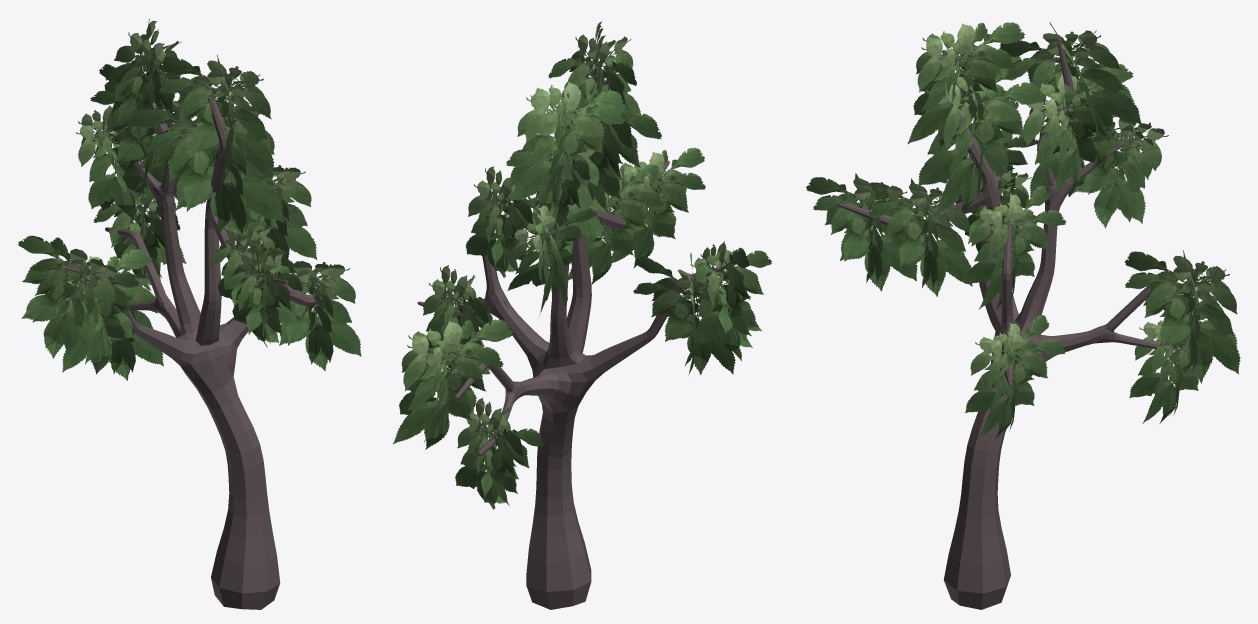
Rendered from koivu.fbx.
The picture shows the model from 3 angles, left to right: view 1: azimuth 30°, elevation 25°; view 2: azimuth 150°, elevation 25°; view 3: azimuth 270°, elevation 25°; orthographic projection. The views are drawn at different scales.
Parts seen in each view (by area): view 1: Plane, lehti.007, lehti.006, lehti.009, lehti.001, lehti.011, lehti.008, lehti.010, lehti.004, lehti.002, lehti.005, lehti.003 (+2 smaller); view 2: Plane, lehti.003, lehti.004, lehti.009, lehti, lehti.010, lehti.008, lehti.002, lehti.011, lehti.006, lehti.012, lehti.007 (+2 smaller); view 3: Plane, lehti.003, lehti.007, lehti.006, lehti.005, lehti.012, lehti.004, lehti.001, lehti.011, lehti.008, lehti.002, lehti (+2 smaller).
Part boxes in pixels (x1=…): Plane: x1=60, y1=47, x2=336, y2=609; lehti.007: x1=125, y1=95, x2=283, y2=241; lehti.006: x1=158, y1=54, x2=274, y2=187; lehti.009: x1=17, y1=235, x2=121, y2=358; lehti.001: x1=279, y1=259, x2=361, y2=371; lehti.011: x1=224, y1=237, x2=302, y2=347; lehti.008: x1=75, y1=105, x2=148, y2=219; lehti.010: x1=56, y1=249, x2=152, y2=374; lehti.004: x1=104, y1=19, x2=183, y2=140; lehti.002: x1=236, y1=165, x2=317, y2=268; lehti.005: x1=90, y1=64, x2=192, y2=206; lehti.003: x1=93, y1=191, x2=186, y2=290; Plane: x1=417, y1=70, x2=736, y2=609; lehti.003: x1=393, y1=319, x2=513, y2=449; lehti.004: x1=508, y1=82, x2=626, y2=217; lehti.009: x1=690, y1=241, x2=771, y2=360; lehti: x1=455, y1=398, x2=544, y2=509; lehti.010: x1=633, y1=252, x2=735, y2=375; lehti.008: x1=507, y1=178, x2=597, y2=314; lehti.002: x1=465, y1=166, x2=538, y2=277; lehti.011: x1=611, y1=147, x2=705, y2=268; lehti.006: x1=548, y1=21, x2=641, y2=116; lehti.012: x1=568, y1=164, x2=663, y2=284; lehti.007: x1=550, y1=75, x2=661, y2=213; Plane: x1=837, y1=37, x2=1216, y2=609; lehti.003: x1=1124, y1=250, x2=1240, y2=383; lehti.007: x1=918, y1=56, x2=1045, y2=215; lehti.006: x1=907, y1=22, x2=1025, y2=145; lehti.005: x1=1019, y1=64, x2=1133, y2=197; lehti.012: x1=868, y1=178, x2=972, y2=296; lehti.004: x1=999, y1=22, x2=1141, y2=143; lehti.001: x1=965, y1=314, x2=1065, y2=438; lehti.011: x1=806, y1=173, x2=917, y2=291; lehti.008: x1=1070, y1=108, x2=1168, y2=228; lehti.002: x1=965, y1=185, x2=1066, y2=309; lehti: x1=1129, y1=300, x2=1211, y2=423.
Size of the model in its own units: 551 by 889 by 626.
